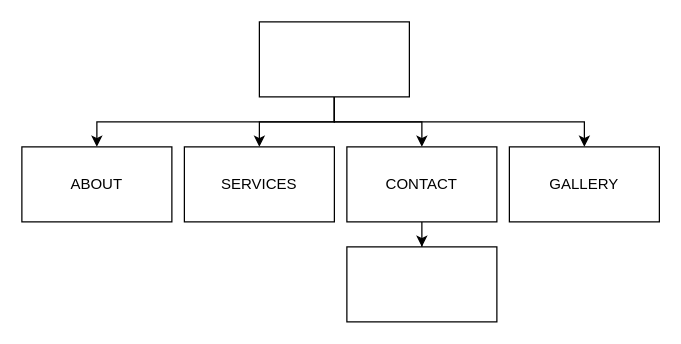
This 681x344 diagram has some shape labels left out. The shapes that lost their labels are listed below. From the top down, each one's centre as x and y in pixels, then its label:
(333,59): HOME
(421,284): Enquier
